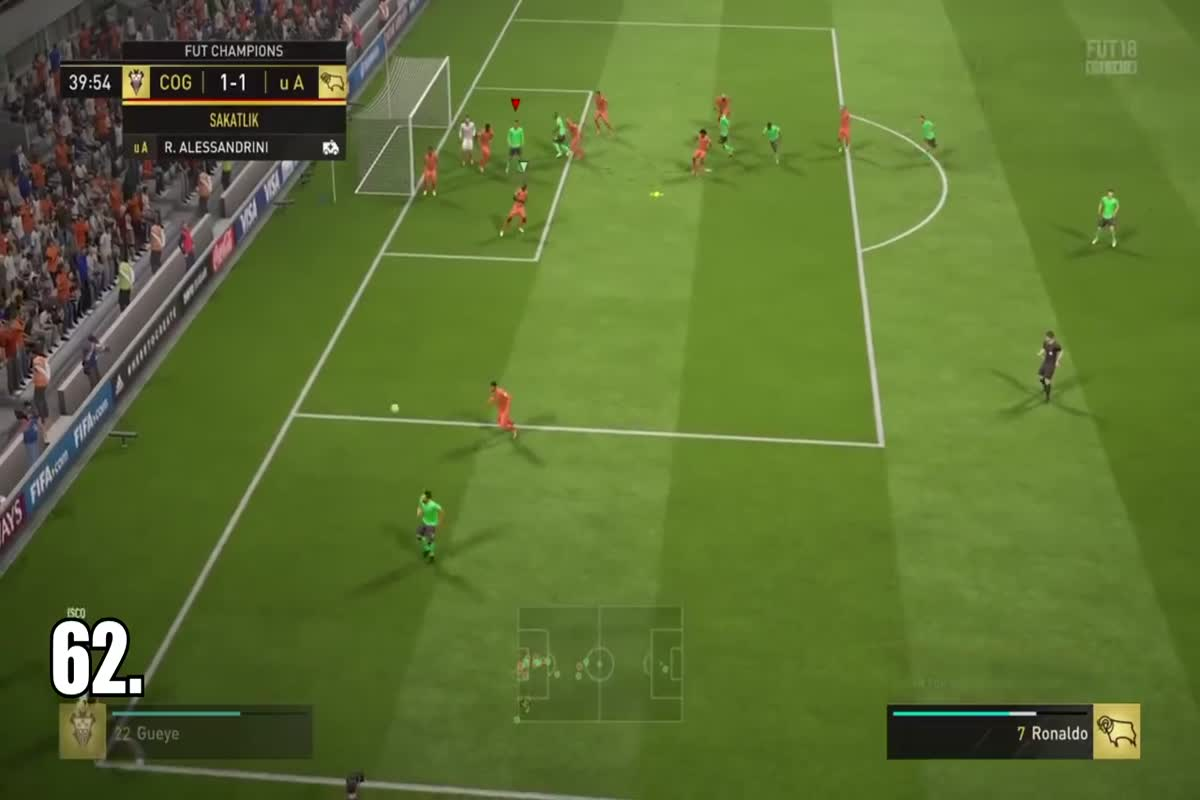ball: (384, 397, 406, 416)
